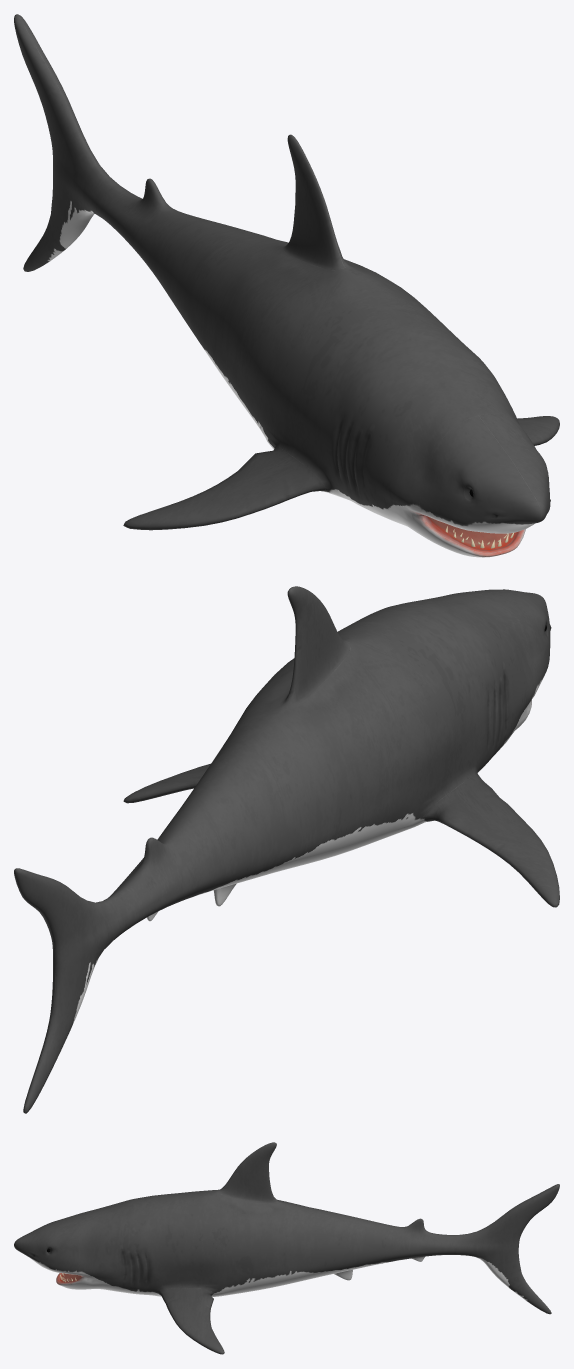
Rendered from shark.glb.
3 views of the same model, one above another, from view 1: azimuth 30°, elevation 25°; view 2: azimuth 150°, elevation 25°; view 3: azimuth 270°, elevation 25° (orthographic). The views are drawn at different scales.
Visible parts, largest first — view 1: shark body; view 2: shark body; view 3: shark body.
Boxes of the visible parts, x1,y1,x2,y2 form: shark body: (14, 14, 559, 557); shark body: (14, 586, 559, 1113); shark body: (14, 1142, 559, 1354).
Bounding box in the file's own units: 21.78 × 15.87 × 45.7.
3 materials, 1 textured.
